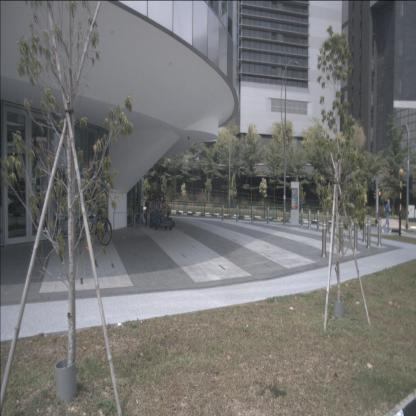human-pedestrian-adult: (382, 199, 391, 235)
vehicle-bicycle: (75, 193, 112, 245)
